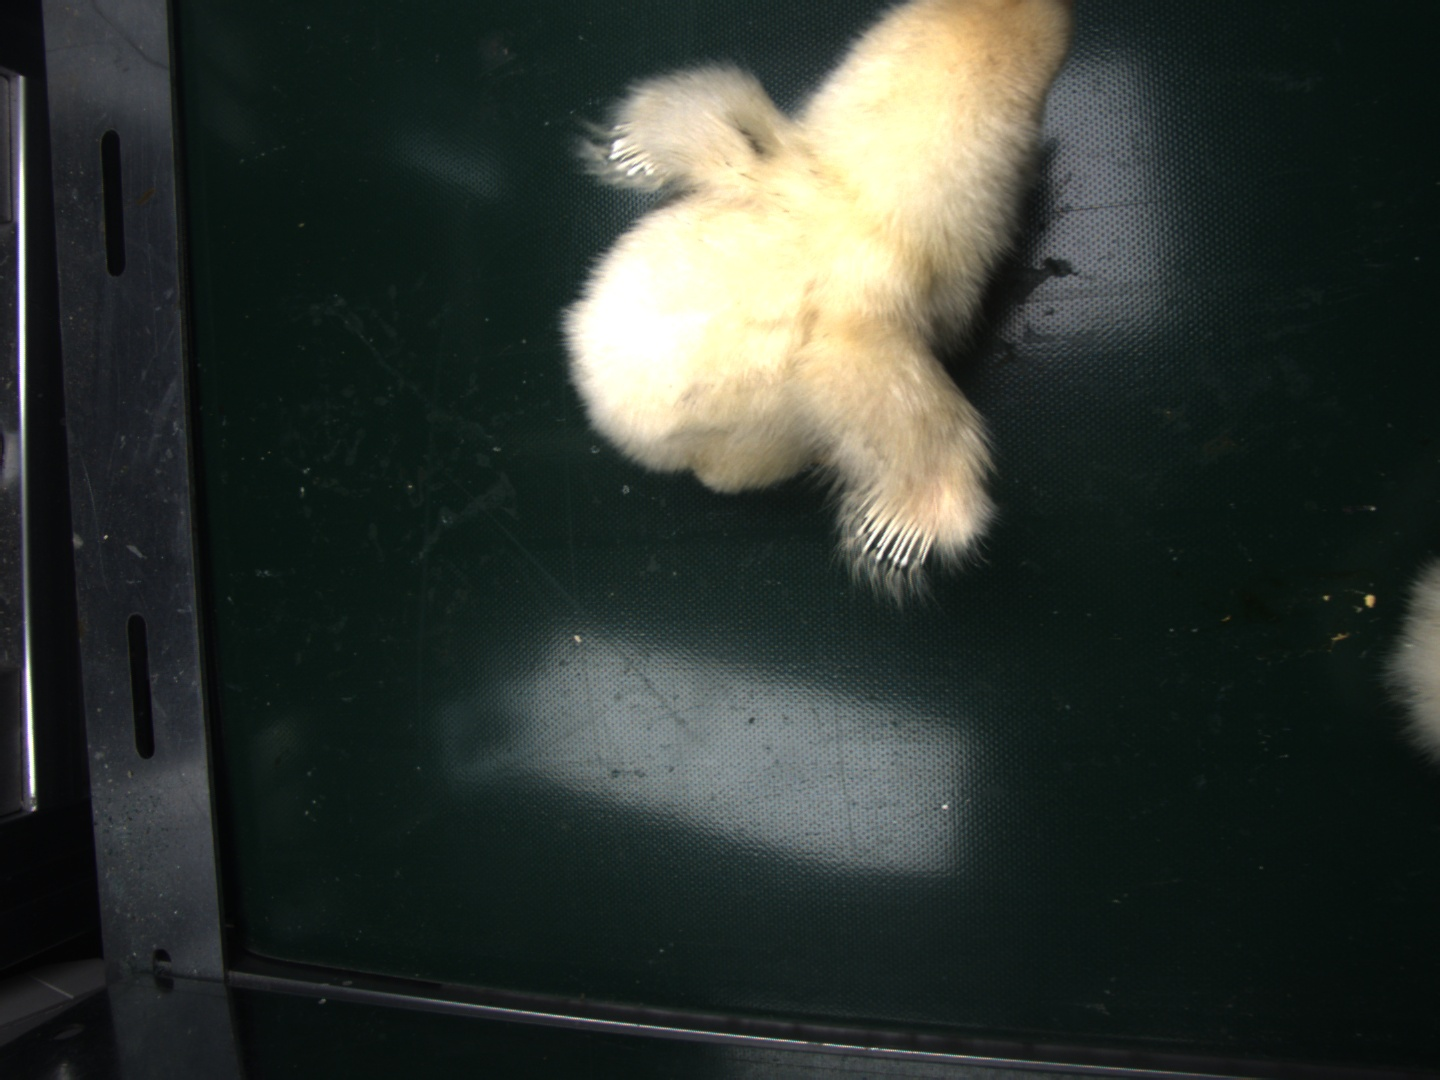male: (852, 491, 933, 567)
